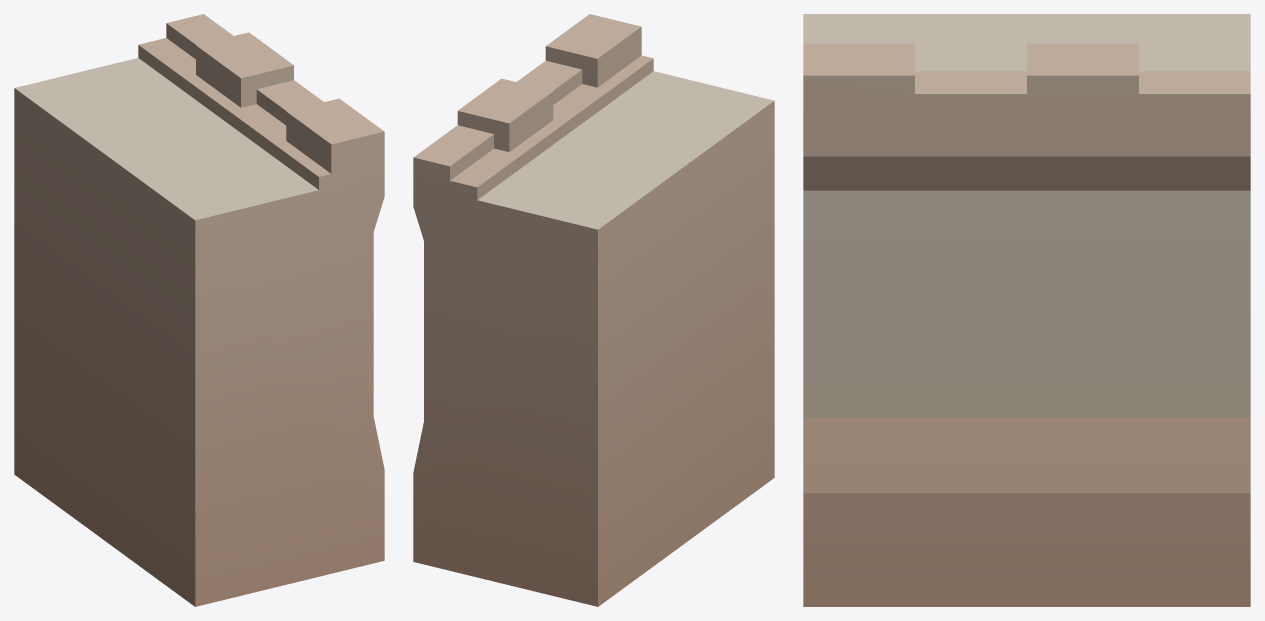
The model's file is wall-half-modular.glb.
3 renders of one model, left to right at view 1: azimuth 30°, elevation 25°; view 2: azimuth 150°, elevation 25°; view 3: azimuth 270°, elevation 25°, orthographic. The views are drawn at different scales.
Visible parts, largest first — view 1: wall-half-modular; view 2: wall-half-modular; view 3: wall-half-modular.
Part boxes in pixels (bbox=[...]): wall-half-modular: bbox=[14, 14, 384, 606]; wall-half-modular: bbox=[413, 14, 774, 606]; wall-half-modular: bbox=[803, 14, 1250, 606].
Size of the model in its own units: 0.6046 by 1.31 by 1.
